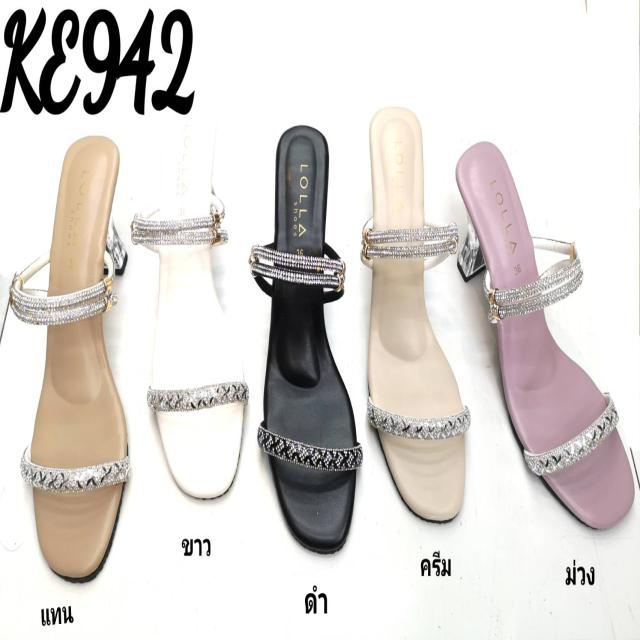black: (268, 123, 358, 549)
cream: (363, 104, 467, 524)
purple: (455, 140, 632, 531)
tan: (29, 138, 130, 584)
white: (152, 121, 247, 496)
